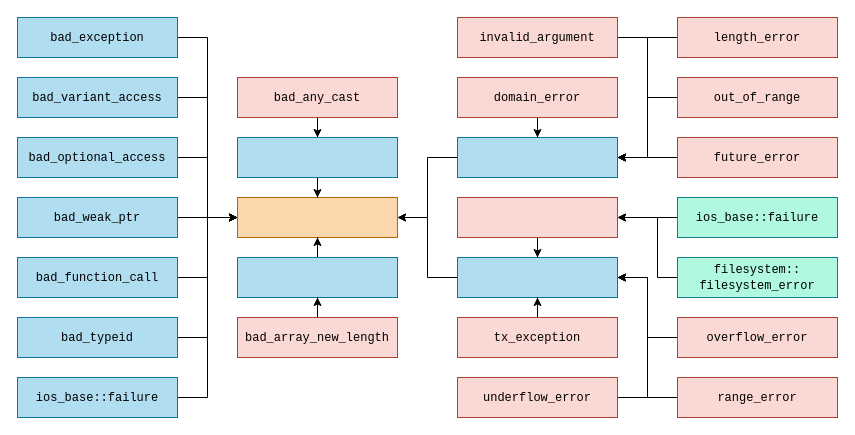
Image size: 855x435. Some labels were removed from this diagram. The box of each missing label's shape, as (x1, y1, x2, y2) in pixels:
bad_alloc: (236, 256, 398, 298)
bad_cast: (236, 136, 398, 178)
exception: (236, 196, 398, 238)
logic_failure: (456, 136, 618, 178)
runtime_error: (456, 256, 618, 298)
system_error: (456, 196, 618, 238)
